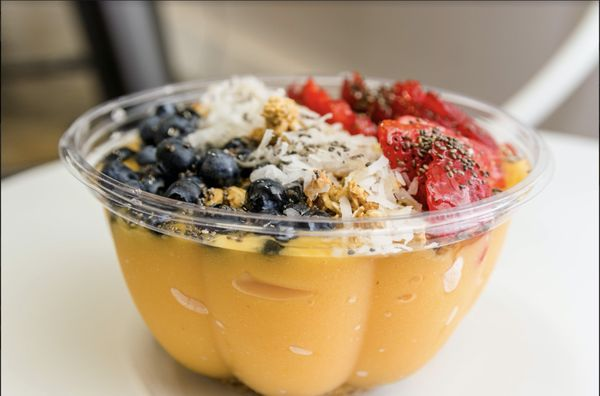sushi: (33, 73, 556, 391)
